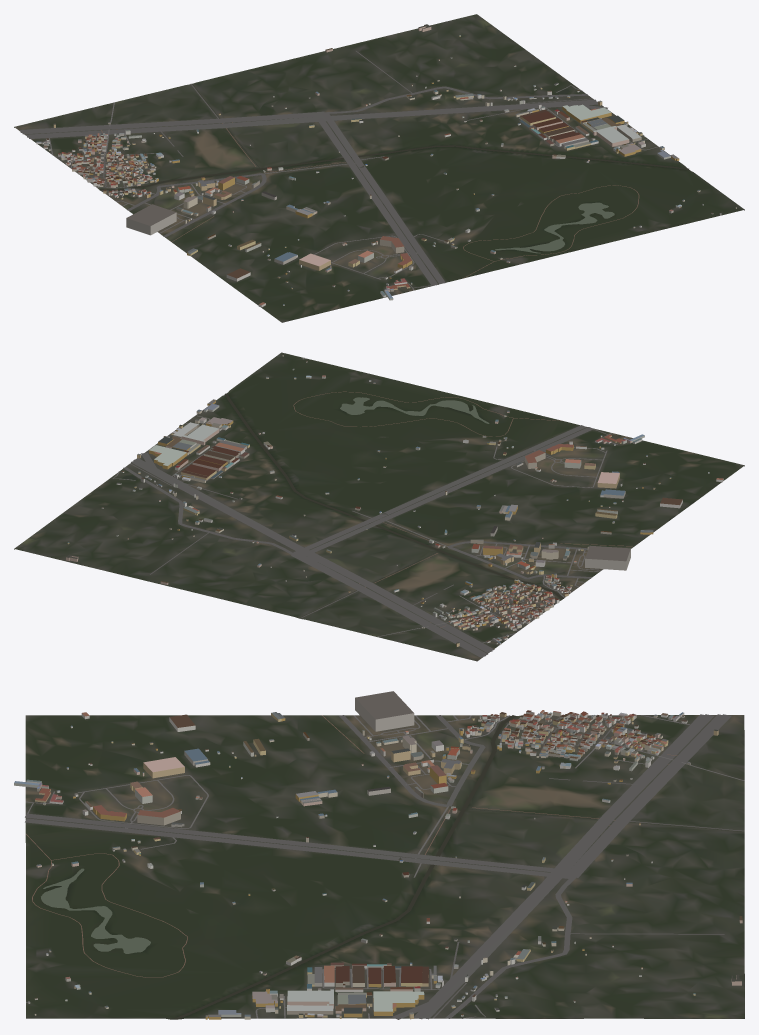
3 renders of one model, top to bottom at view 1: azimuth 30°, elevation 25°; view 2: azimuth 150°, elevation 25°; view 3: azimuth 270°, elevation 25°, orthographic. The views are drawn at different scales.
Visible parts, largest first — view 1: ground, buildings, roads, water; view 2: ground, buildings, roads, water; view 3: ground, buildings, roads, water.
Boxes of the visible parts, x1=… form: ground: x1=14, y1=14, x2=744, y2=322; buildings: x1=36, y1=24, x2=736, y2=307; roads: x1=20, y1=51, x2=720, y2=290; water: x1=99, y1=84, x2=688, y2=253; ground: x1=14, y1=352, x2=744, y2=661; buildings: x1=66, y1=355, x2=723, y2=646; roads: x1=112, y1=358, x2=632, y2=657; water: x1=123, y1=393, x2=563, y2=618; ground: x1=25, y1=715, x2=744, y2=1019; buildings: x1=14, y1=691, x2=742, y2=1019; roads: x1=25, y1=714, x2=744, y2=1019; water: x1=41, y1=715, x2=744, y2=1019.
Bounding box in the file's own units: 1462 × 30.79 × 1426.
